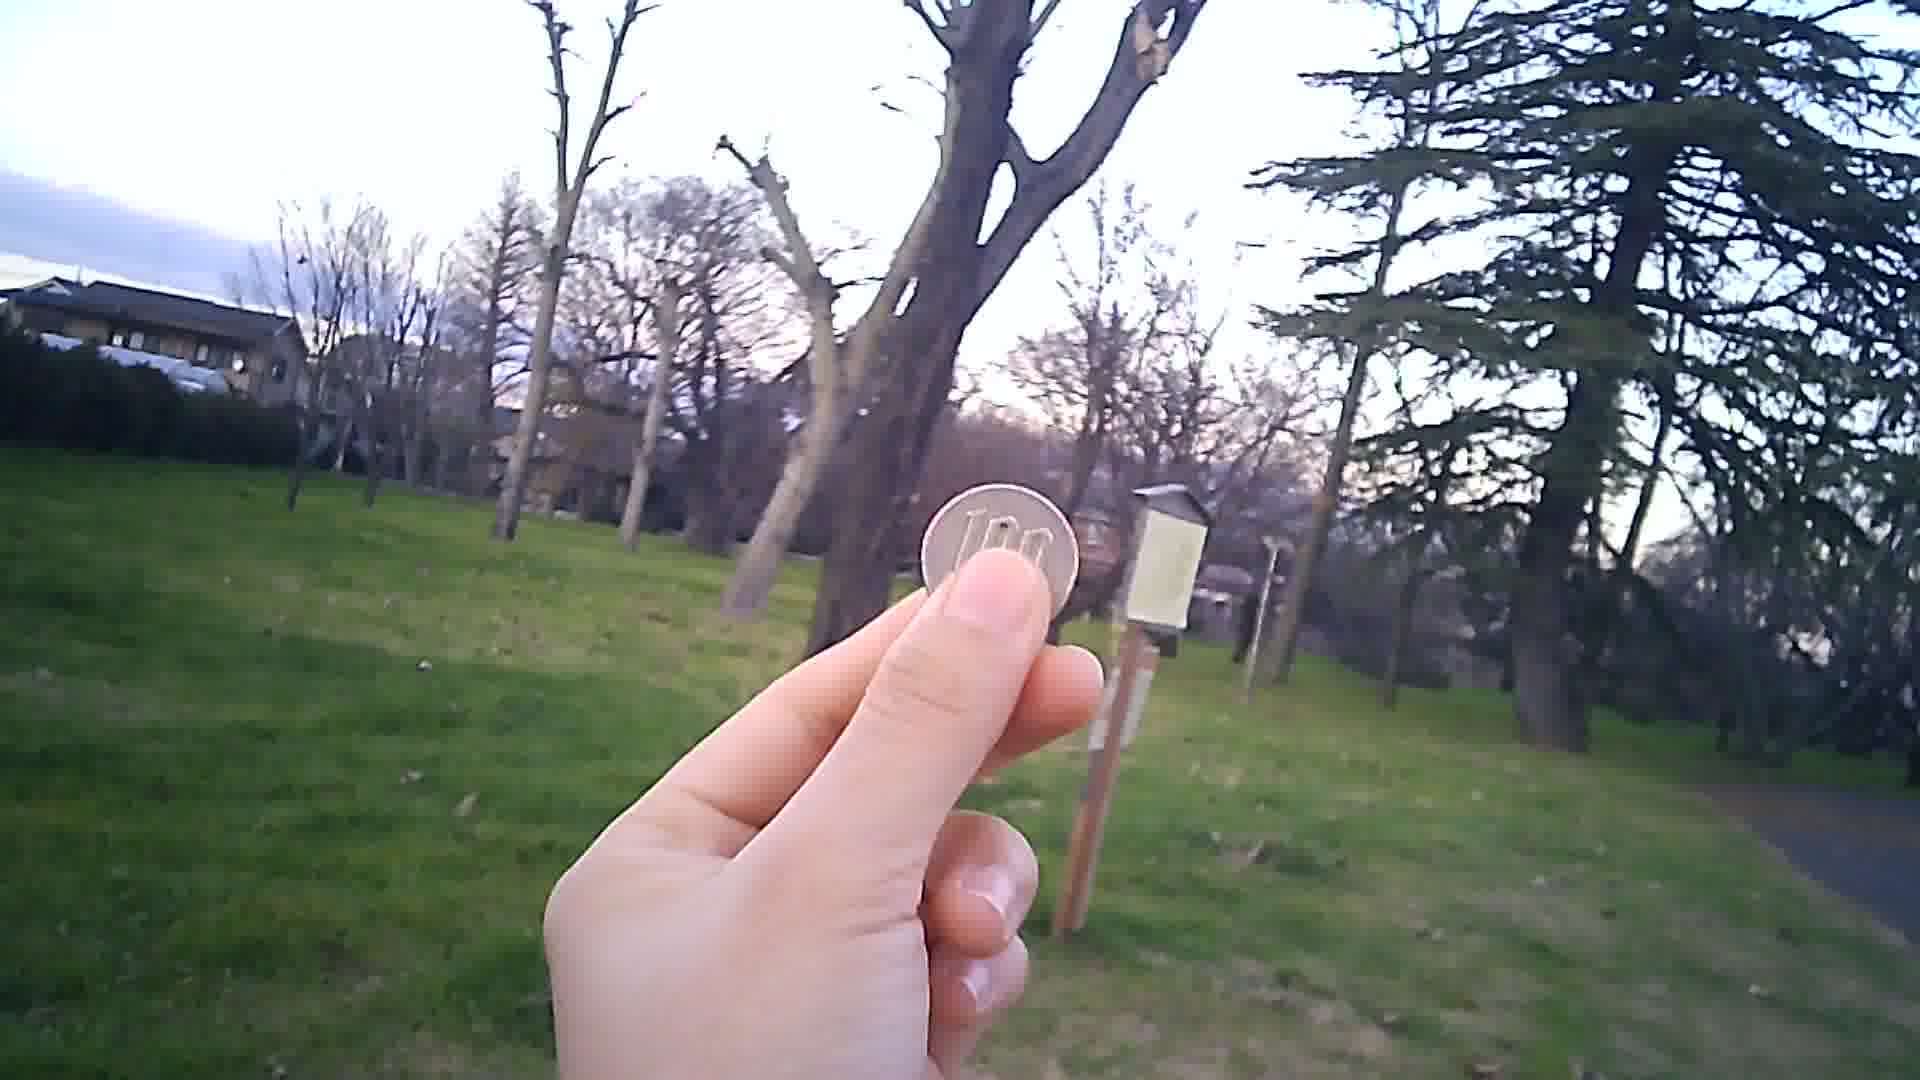100 Yen: (915, 473, 1087, 624)
